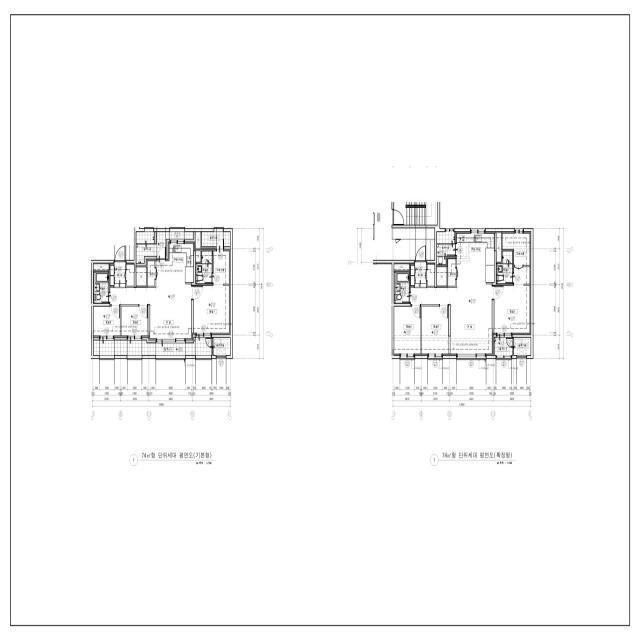space_balconi: (94, 338, 212, 355), (136, 232, 194, 263), (437, 232, 455, 264), (202, 232, 230, 246), (494, 338, 513, 356)
space_bedroom: (494, 267, 531, 334), (194, 286, 230, 335), (394, 307, 421, 355), (422, 307, 448, 355), (121, 307, 148, 337), (93, 307, 120, 337)
space_dressroom: (502, 232, 531, 265), (213, 250, 230, 284)
space_elevator_hall: (374, 202, 430, 260)
space_front: (110, 262, 134, 288), (411, 262, 435, 288)
space_kitchen: (456, 232, 494, 282), (156, 242, 195, 282)
space_living_room: (411, 284, 493, 355), (110, 284, 192, 340)
space_other: (392, 228, 435, 239), (146, 259, 155, 286), (447, 258, 455, 286), (136, 266, 146, 286), (437, 266, 447, 286), (497, 232, 501, 262), (394, 263, 409, 270), (430, 240, 435, 260), (94, 264, 109, 270), (196, 232, 201, 249), (196, 251, 201, 262)
space_outdoor_room: (213, 338, 230, 355), (514, 338, 531, 355)
space_staircase: (394, 202, 437, 225)
space_toilet: (196, 251, 212, 284), (497, 251, 512, 284), (94, 273, 109, 303), (395, 272, 409, 303)
